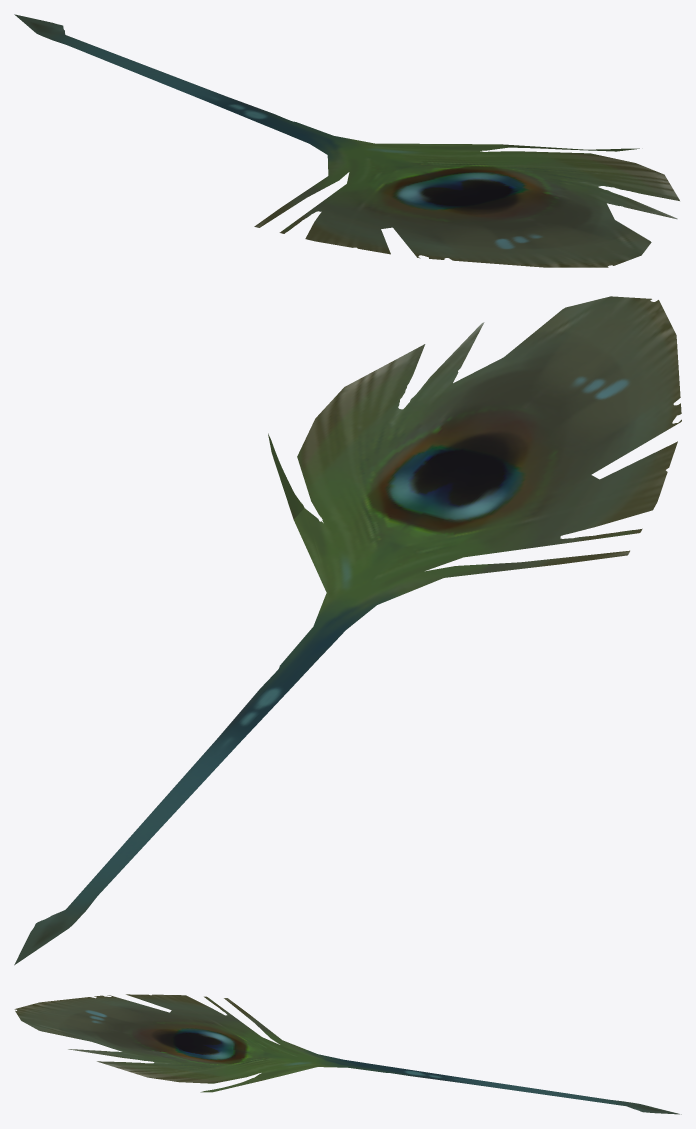
File: Quill.fbx
3 views of the same model, one above another, from view 1: azimuth 30°, elevation 25°; view 2: azimuth 150°, elevation 25°; view 3: azimuth 270°, elevation 25° (orthographic). The views are drawn at different scales.
Parts seen in each view (by area): view 1: quill pen.003; view 2: quill pen.003; view 3: quill pen.003.
Boxes of the visible parts, bbox=[...] form: quill pen.003: bbox=[14, 14, 679, 267]; quill pen.003: bbox=[14, 296, 681, 965]; quill pen.003: bbox=[14, 994, 681, 1114].
Bounding box in the file's own units: 33.31 × 16.27 × 94.67.
